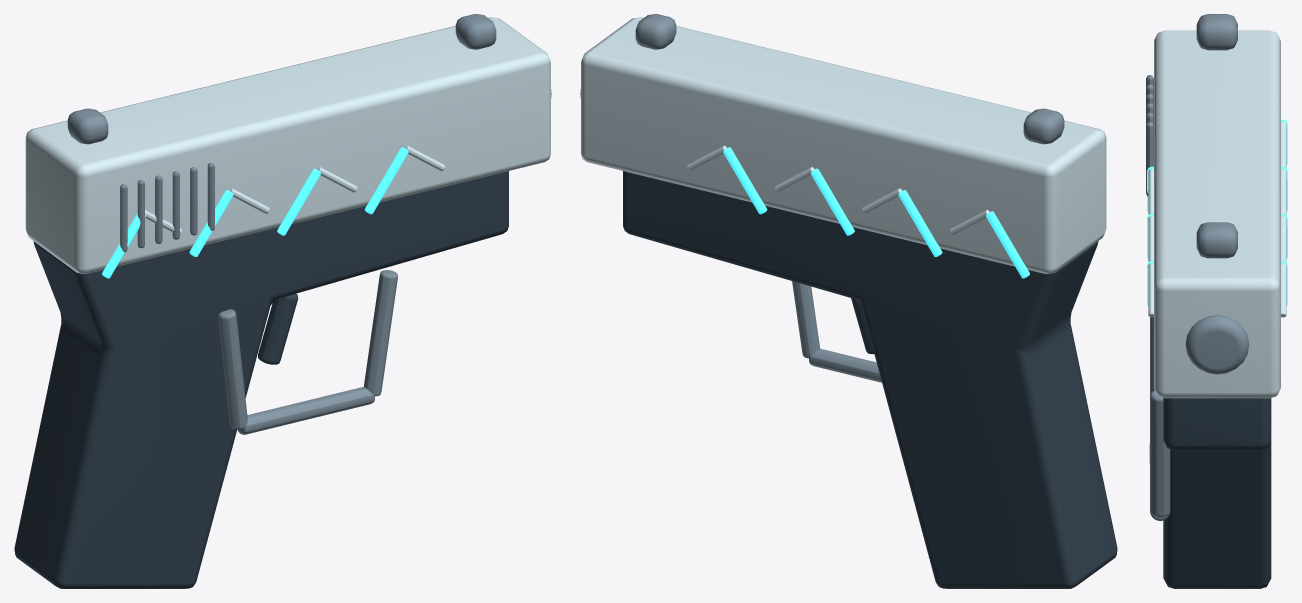
File: glock18.glb
3 views of the same model, side by side, from view 1: azimuth 30°, elevation 25°; view 2: azimuth 150°, elevation 25°; view 3: azimuth 270°, elevation 25° (orthographic). The views are drawn at different scales.
Visible parts, largest first — view 1: Lower frame, Slide, Trigger guard.010, Trigger guard.011, Trigger guard.009, Trigger.003, Iron sight, Iron sight.001, Ice vein.026, Ice vein.027; view 2: Lower frame, Slide, Trigger guard.011, Trigger guard.010, Iron sight, Iron sight.001, Ice vein.028, Ice vein.030, Ice vein.029, Ice vein.031; view 3: Slide, Lower frame, Muzzle.001, Trigger guard.011, Iron sight, Iron sight.001, Slide serrations.005, Ice vein fork.027, Ice vein fork.031, Trigger guard.009, Ice vein fork.025, Ice vein fork.026 (+3 smaller).
Boxes of the visible parts, box(x1,y1,x2,y2) form: Lower frame: box(14, 171, 508, 588); Slide: box(25, 17, 550, 273); Trigger guard.010: box(237, 386, 374, 434); Trigger guard.011: box(364, 270, 397, 396); Trigger guard.009: box(218, 309, 247, 429); Trigger.003: box(258, 294, 298, 364); Iron sight: box(67, 108, 108, 144); Iron sight.001: box(455, 14, 496, 49); Ice vein.026: box(277, 168, 320, 235); Ice vein.027: box(364, 147, 408, 214); Lower frame: box(623, 171, 1117, 588); Slide: box(581, 17, 1106, 273); Trigger guard.011: box(792, 281, 820, 358); Trigger guard.010: box(809, 348, 881, 382); Iron sight: box(1023, 108, 1064, 144); Iron sight.001: box(635, 14, 676, 49); Ice vein.028: box(986, 211, 1029, 278); Ice vein.030: box(811, 168, 854, 235); Ice vein.029: box(898, 190, 942, 256); Ice vein.031: box(723, 147, 767, 214); Slide: box(1154, 30, 1280, 398); Lower frame: box(1163, 398, 1271, 588); Muzzle.001: box(1185, 315, 1249, 374); Trigger guard.011: box(1150, 390, 1170, 516); Iron sight: box(1196, 14, 1237, 50); Iron sight.001: box(1196, 222, 1237, 258); Slide serrations.005: box(1146, 122, 1153, 196); Ice vein fork.027: box(1148, 263, 1153, 317); Ice vein fork.031: box(1281, 263, 1286, 317); Trigger guard.009: box(1150, 317, 1154, 395); Ice vein fork.025: box(1148, 169, 1153, 214); Ice vein fork.026: box(1148, 216, 1153, 261).
Size of the model in its own units: 2.02 by 1.83 by 0.4464.
